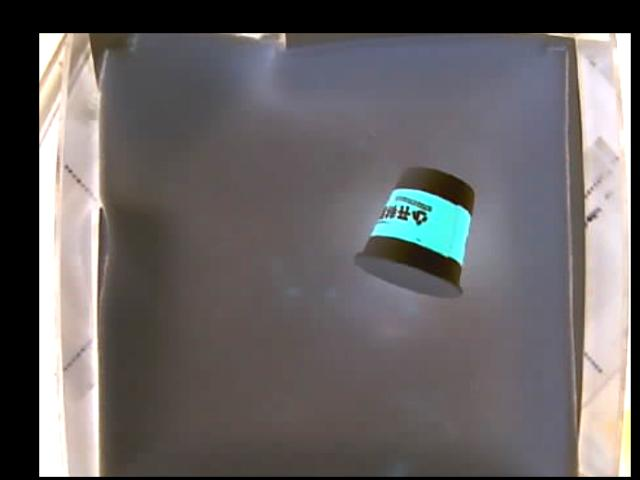Cup: (353, 164, 472, 302)
